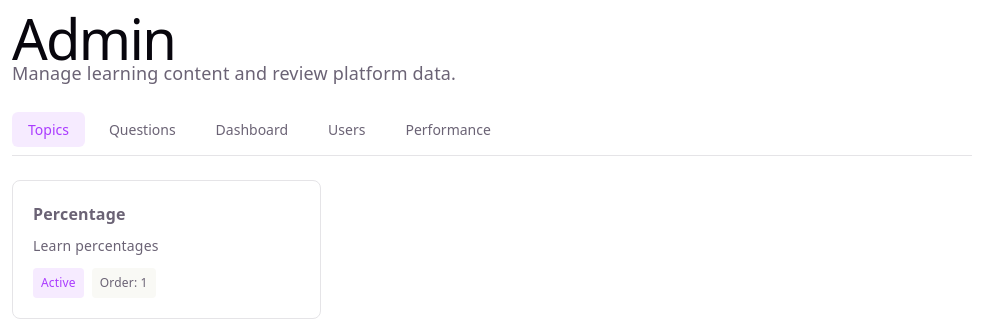
Test case: Admin › switches to questions tab
The width and height of the screenshot is (989, 336).
expect the heading "Percentage" is shown: met, box [33,203,126,225]
Click the button "Questions" at point(142, 129), box [93,112,192,147]
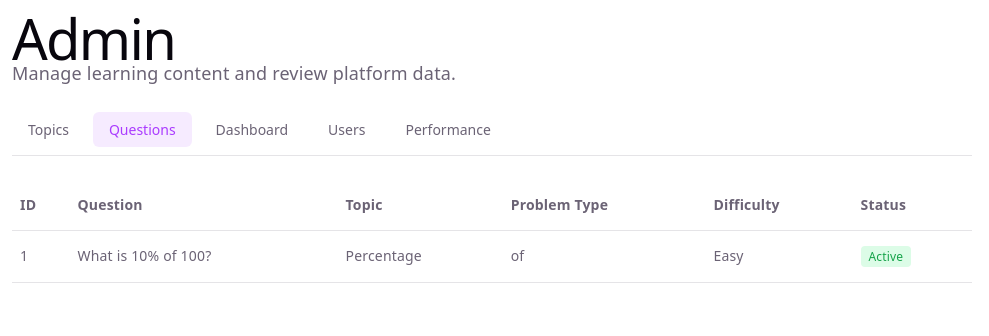
expect the text "What is 10% of 100?" is shown: met, box [70,230,338,283]
